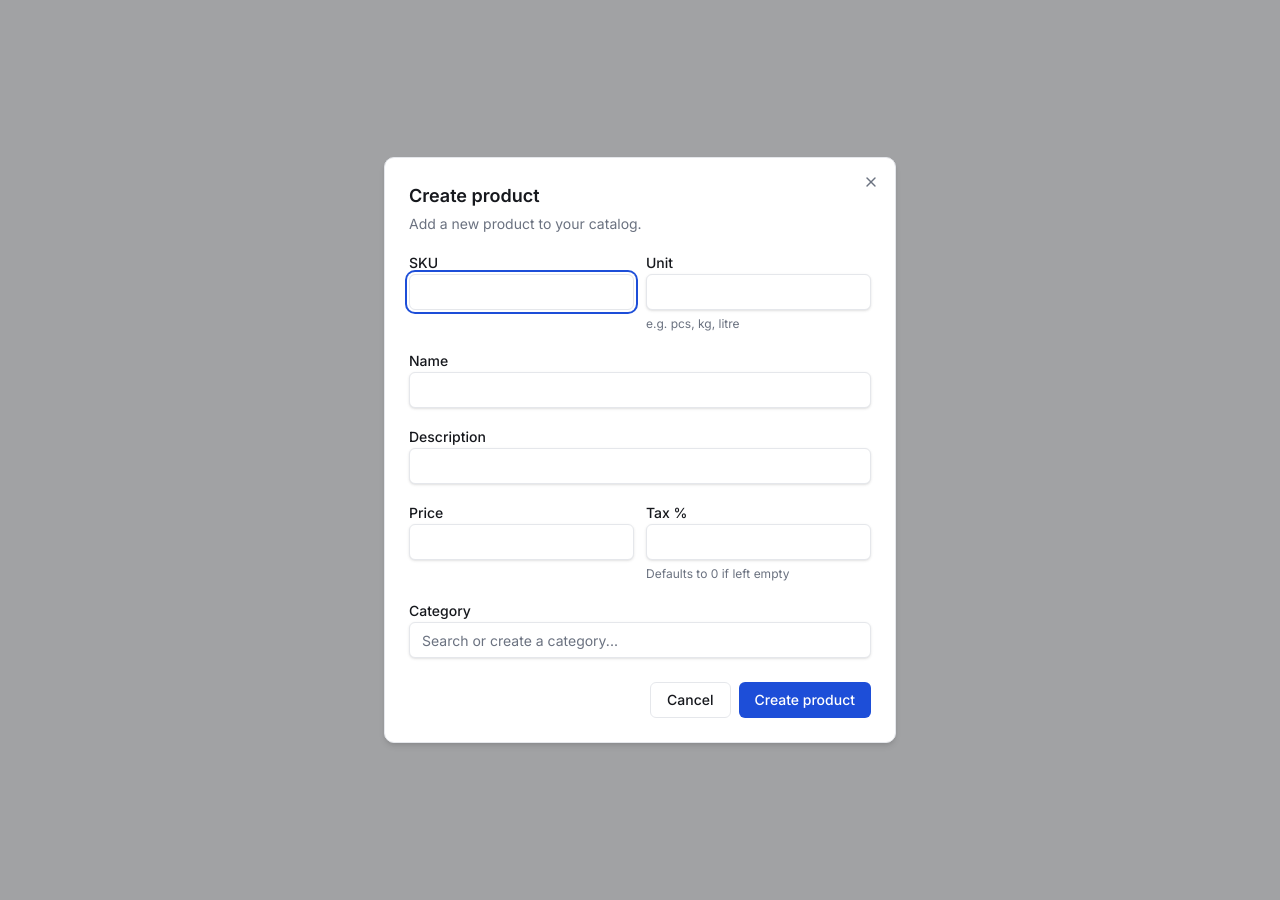
Scenario: ProductFormDialog › shows validation errors when required fields are missing
Click the button "Create product" at (805, 700), box [738,682,871,718]
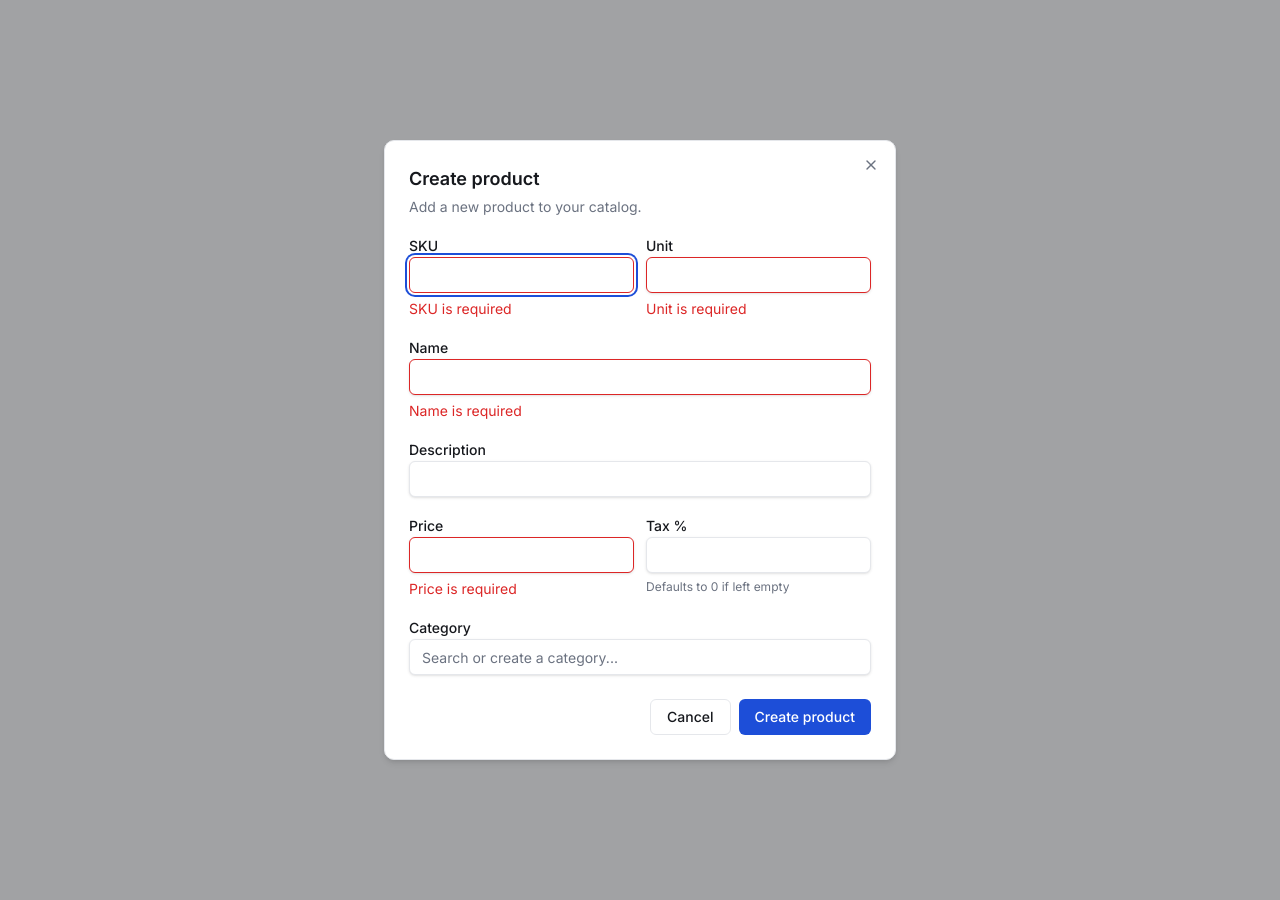
Check: the text "SKU is required" is shown, box [409,300,512,317]
Check: the text "Name is required" is shown, box [409,402,522,419]
Check: the text "Unit is required" is shown, box [646,300,746,317]
